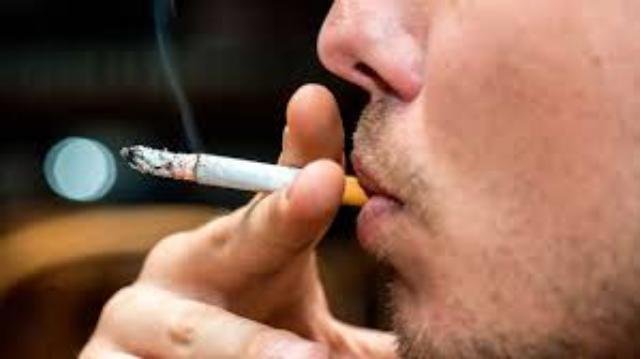Cigarette: (118, 144, 396, 218)
